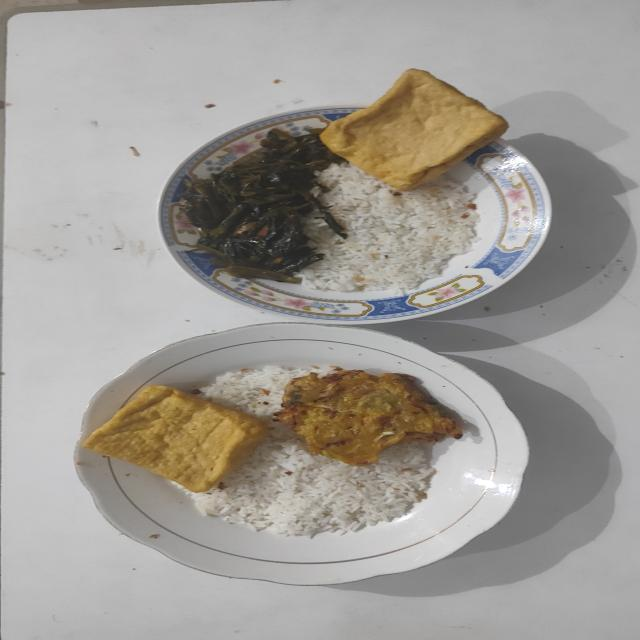nasi_putih: (190, 366, 436, 538), (300, 165, 480, 295)
tahu_goreng: (320, 69, 508, 191), (82, 386, 267, 492)
tumis_kangkung: (180, 128, 347, 280)
